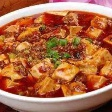mapodoufu: (1, 10, 112, 100)
